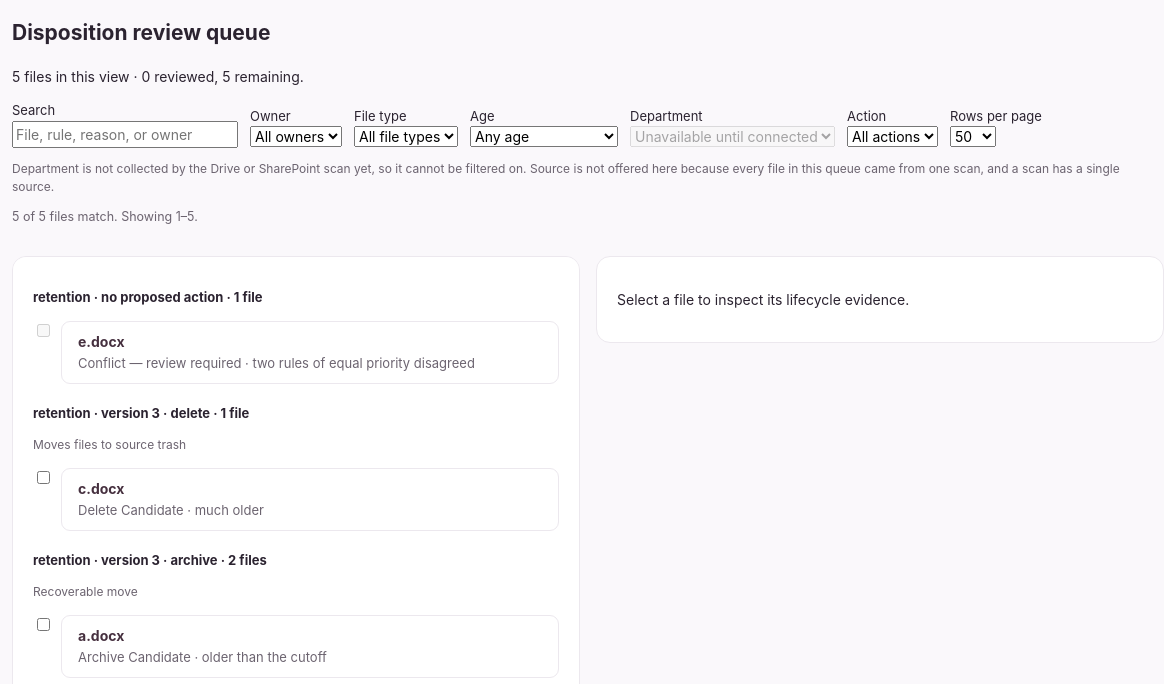
Scenario: progress and filtering › reports reviewed and remaining, and advances as files are opened
Click the button that starts with "a.docx" at (310, 646), box [61, 615, 559, 678]
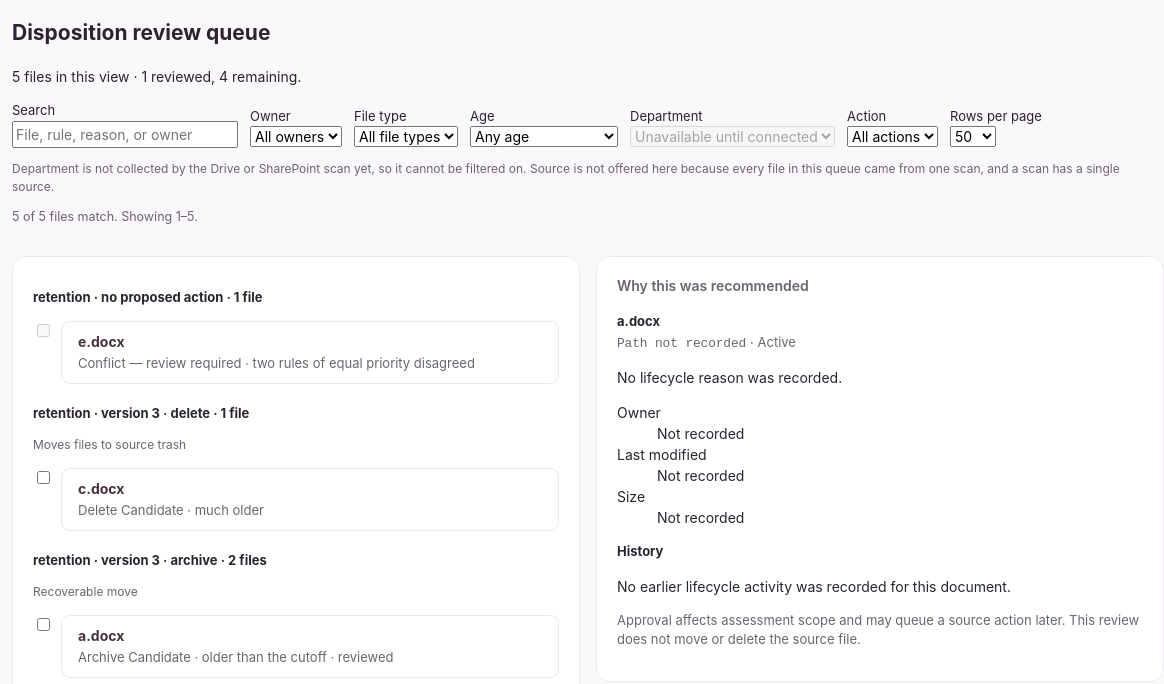
Result: the text "1 reviewed, 4 remaining" is shown at [12, 68, 301, 85]
